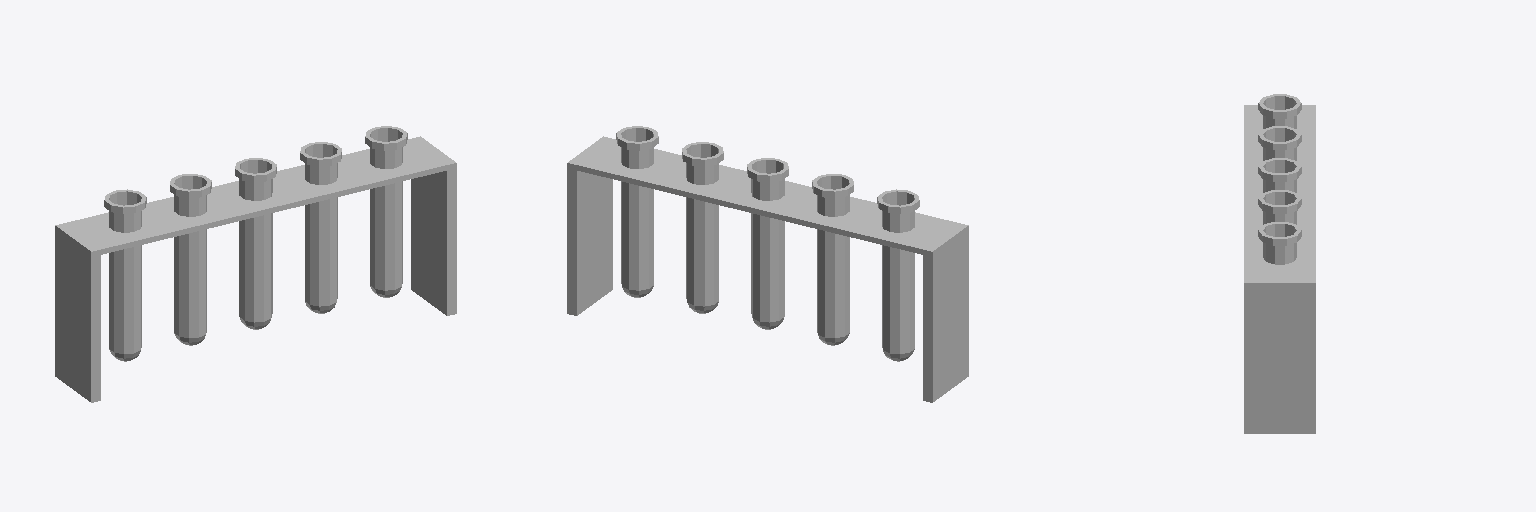
Rendered from Probeta3.obj.
The picture shows the model from 3 angles: view 1: azimuth 30°, elevation 25°; view 2: azimuth 150°, elevation 25°; view 3: azimuth 270°, elevation 25°; orthographic projection.
Visible parts, largest first — view 1: Esfera; view 2: Esfera; view 3: Esfera.
Boxes of the visible parts, x1=… form: Esfera: x1=55, y1=126, x2=456, y2=402; Esfera: x1=567, y1=126, x2=968, y2=402; Esfera: x1=1244, y1=94, x2=1315, y2=433.
Bounding box in the file's own units: 1.12 × 0.5235 × 0.192.